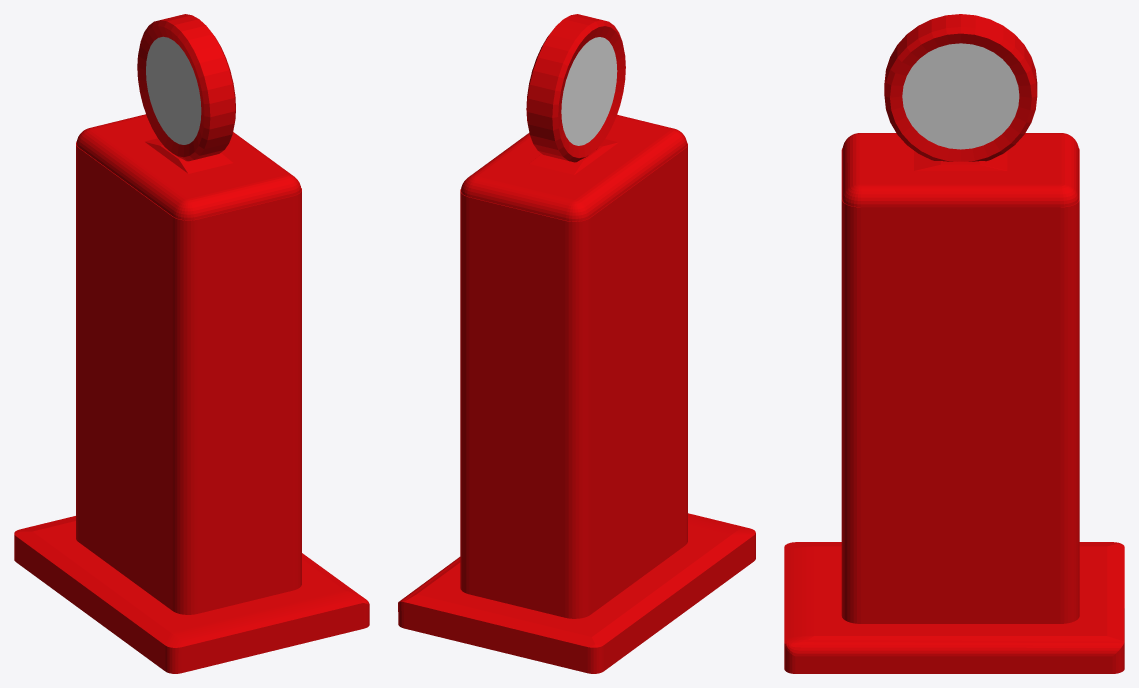
Rendered from gaspump.fbx.
3 renders of one model, left to right at view 1: azimuth 30°, elevation 25°; view 2: azimuth 150°, elevation 25°; view 3: azimuth 270°, elevation 25°, orthographic. The views are drawn at different scales.
Parts seen in each view (by area): view 1: Cube, Cylinder; view 2: Cube, Cylinder; view 3: Cube, Cylinder.
Part boxes in pixels (left/top/right/bottom): Cube: left=14, top=114, right=369, bottom=673; Cylinder: left=137, top=14, right=235, bottom=161; Cube: left=398, top=114, right=755, bottom=673; Cylinder: left=526, top=14, right=625, bottom=162; Cube: left=784, top=133, right=1124, bottom=673; Cylinder: left=884, top=14, right=1037, bottom=161.
Bounding box in the file's own units: 162 × 435 × 223.
